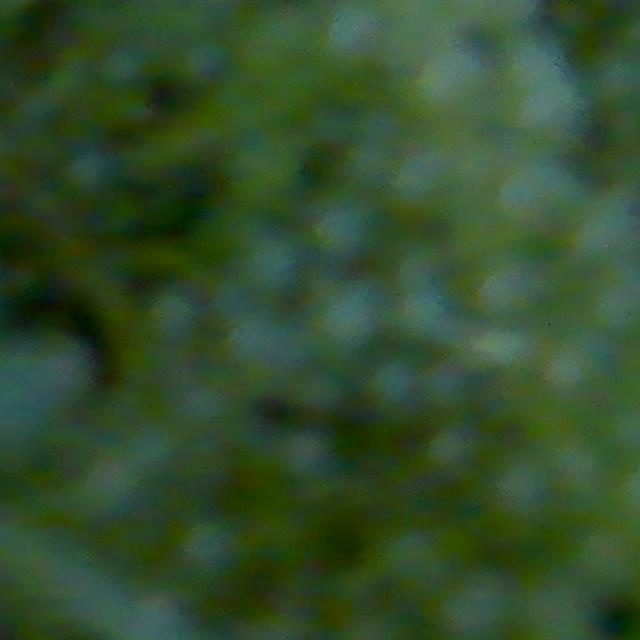SeaGrape: (0, 346, 81, 466), (504, 56, 588, 145), (494, 165, 595, 238), (374, 520, 464, 596), (223, 305, 303, 386), (410, 43, 490, 122), (436, 568, 519, 640), (309, 276, 386, 353), (485, 450, 559, 530), (471, 249, 549, 322), (175, 513, 250, 586), (315, 0, 385, 72), (546, 432, 610, 502), (585, 259, 640, 335), (421, 421, 484, 483), (308, 194, 369, 255), (363, 355, 423, 417), (273, 427, 335, 486), (238, 235, 302, 291), (144, 287, 202, 345), (396, 287, 453, 340)
